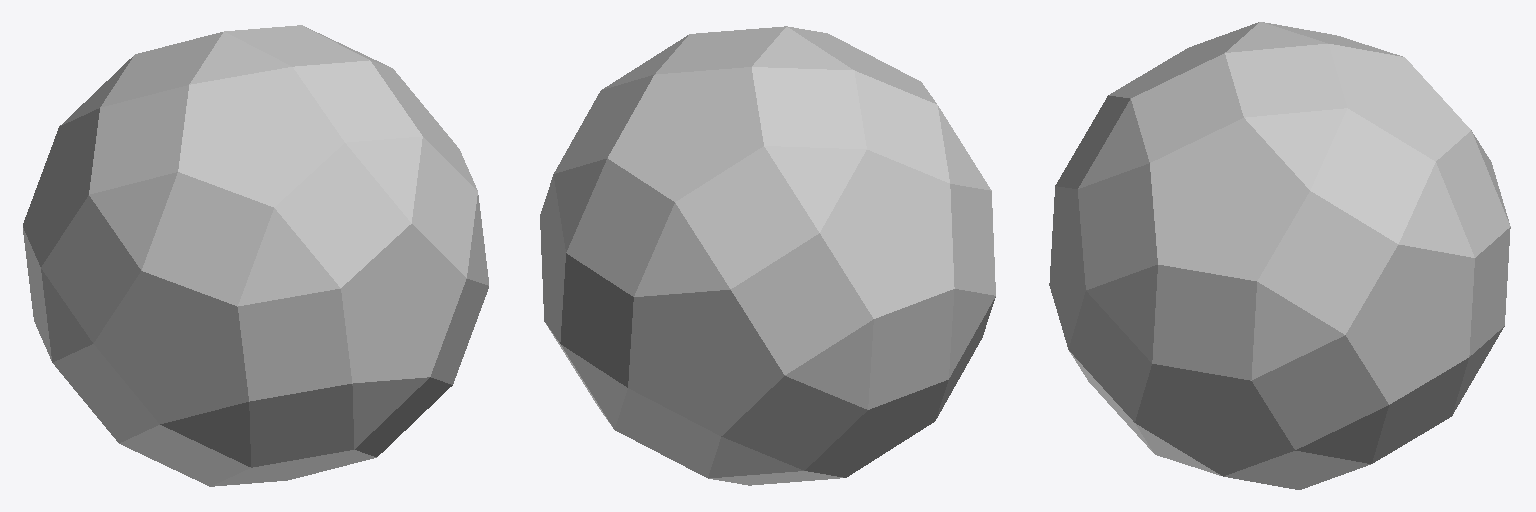
Rendered from ParabiGyrateRhombIcosiDodecahedron.obj.
3 renders of one model, left to right at view 1: azimuth 30°, elevation 25°; view 2: azimuth 150°, elevation 25°; view 3: azimuth 270°, elevation 25°, orthographic.
Visible parts, largest first — view 1: ParaBiGyrateRhombIcosiDodecahedron; view 2: ParaBiGyrateRhombIcosiDodecahedron; view 3: ParaBiGyrateRhombIcosiDodecahedron.
Part boxes in pixels (bbox=[...]): ParaBiGyrateRhombIcosiDodecahedron: bbox=[23, 25, 488, 486]; ParaBiGyrateRhombIcosiDodecahedron: bbox=[540, 26, 995, 485]; ParaBiGyrateRhombIcosiDodecahedron: bbox=[1049, 22, 1510, 489].
Bounding box in the file's own units: 3.3 × 3.28 × 3.28.